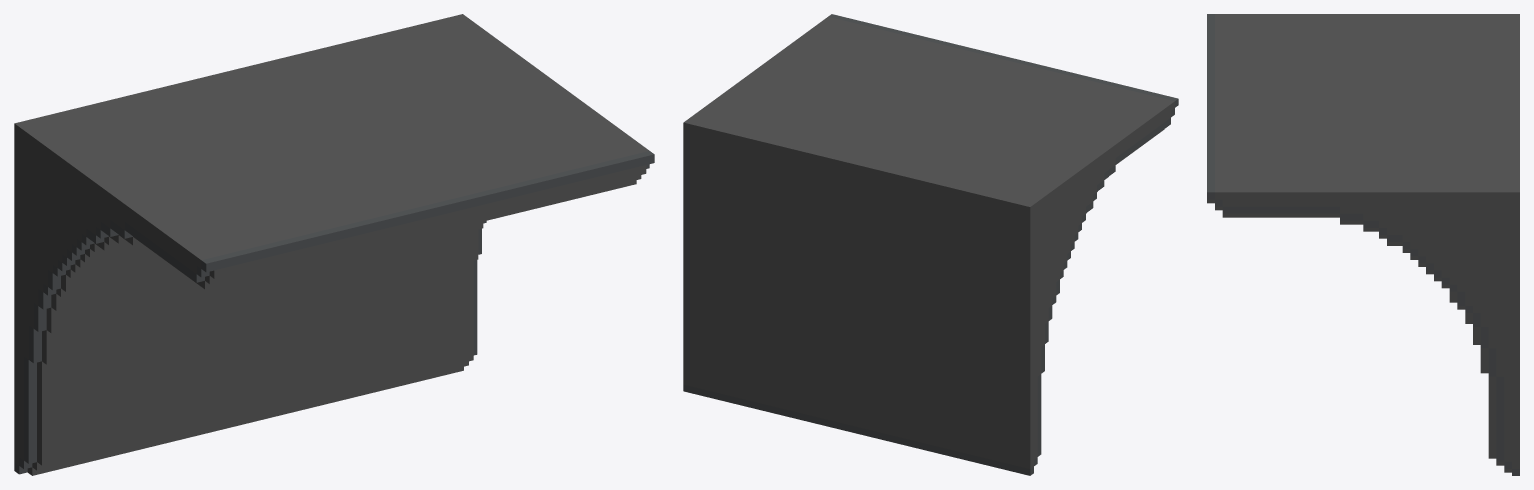
Rendered from Pillar_Top.obj.
3 renders of one model, left to right at view 1: azimuth 30°, elevation 25°; view 2: azimuth 150°, elevation 25°; view 3: azimuth 270°, elevation 25°, orthographic. The views are drawn at different scales.
Size of the model in its own units: 5.4 by 4 by 4.
Materials: 1 (1 with a texture image).
